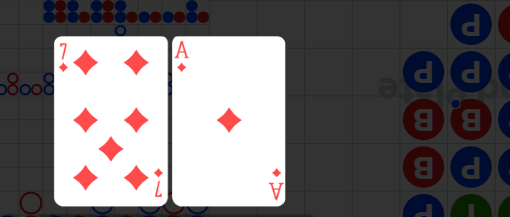7D: (152, 167, 164, 199)
AD: (267, 165, 283, 201)
